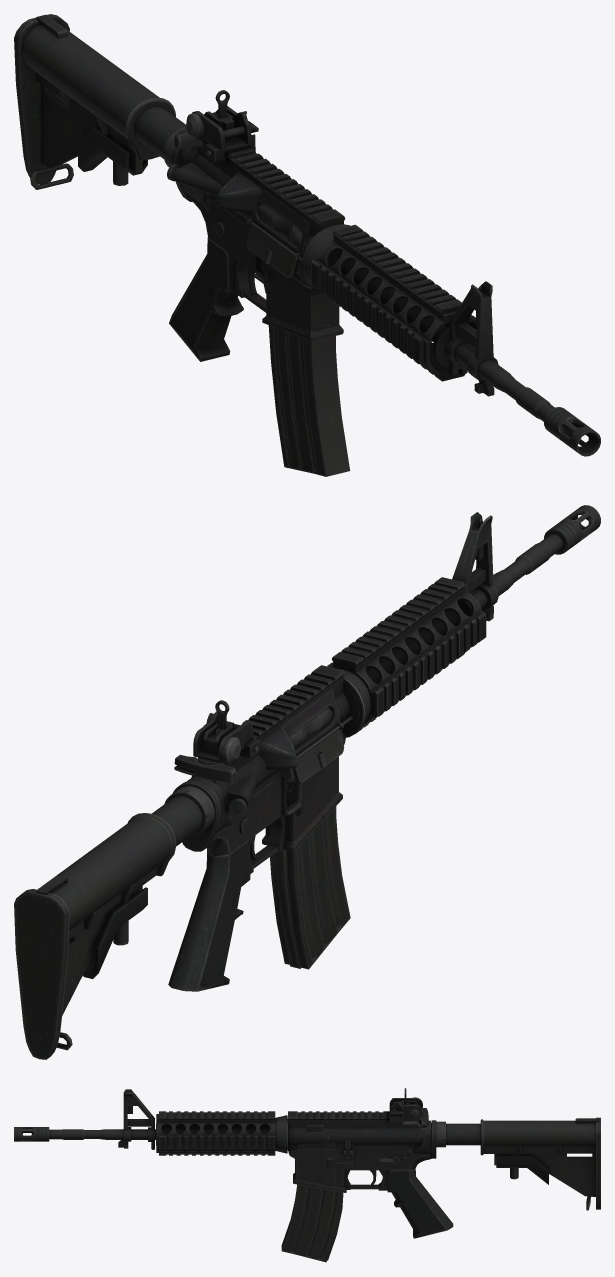
3 renders of one model, top to bottom at view 1: azimuth 30°, elevation 25°; view 2: azimuth 150°, elevation 25°; view 3: azimuth 270°, elevation 25°, orthographic. The views are drawn at different scales.
Visible parts, largest first — view 1: Main_M4_D_0, Mag1_M4_D_0, Bolt_M4_D_0; view 2: Main_M4_D_0, Mag1_M4_D_0; view 3: Main_M4_D_0, Mag1_M4_D_0.
Part boxes in pixels (x1=…): Main_M4_D_0: x1=14, y1=14, x2=600, y2=456; Mag1_M4_D_0: x1=268, y1=325, x2=350, y2=476; Bolt_M4_D_0: x1=257, y1=203, x2=301, y2=246; Main_M4_D_0: x1=14, y1=505, x2=600, y2=1059; Mag1_M4_D_0: x1=270, y1=806, x2=350, y2=969; Main_M4_D_0: x1=14, y1=1088, x2=600, y2=1238; Mag1_M4_D_0: x1=281, y1=1184, x2=343, y2=1262.
Size of the model in its own units: 0.0675 by 0.2775 by 0.8652.
Materials: 1 (1 with a texture image).
